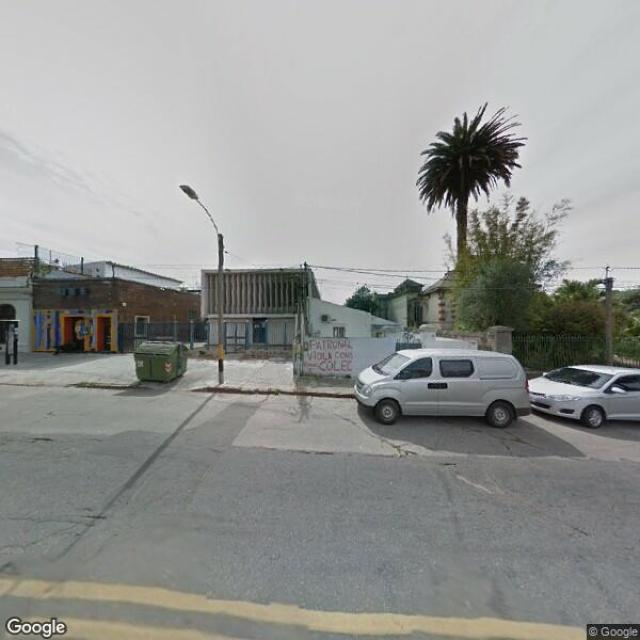garbage container: (125, 332, 200, 389)
